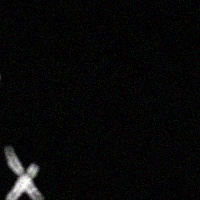chromosome: (5, 145, 45, 200), (6, 162, 39, 200)
